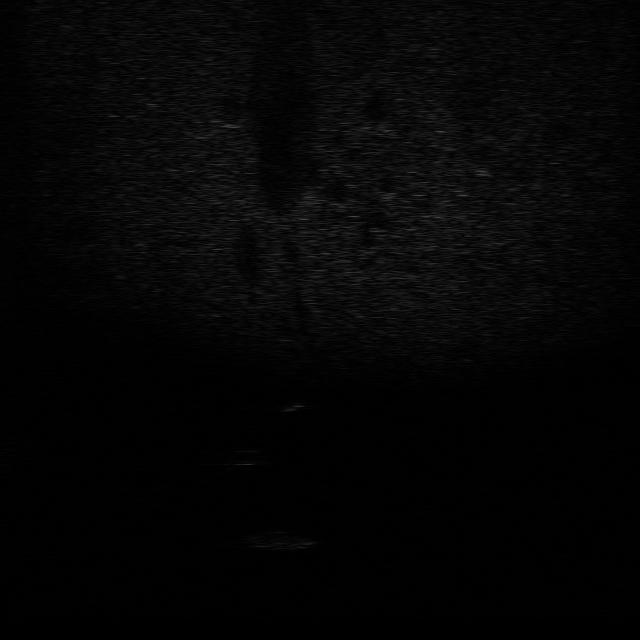ball: (224, 442, 270, 470)
circle cage: (241, 525, 320, 552)
human body: (264, 376, 315, 436)
